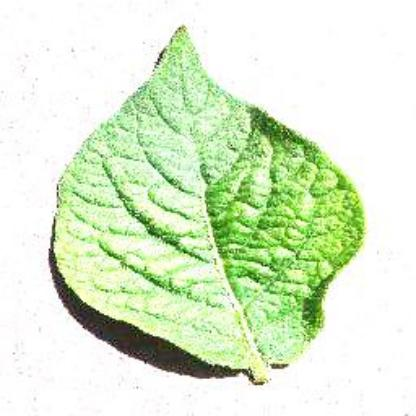Healthy-plant: (38, 21, 366, 390)
